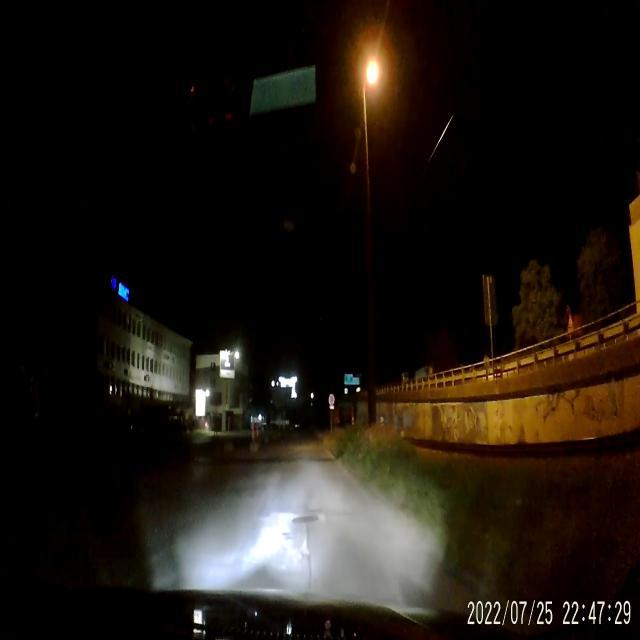Manhole: (290, 513, 320, 528)
